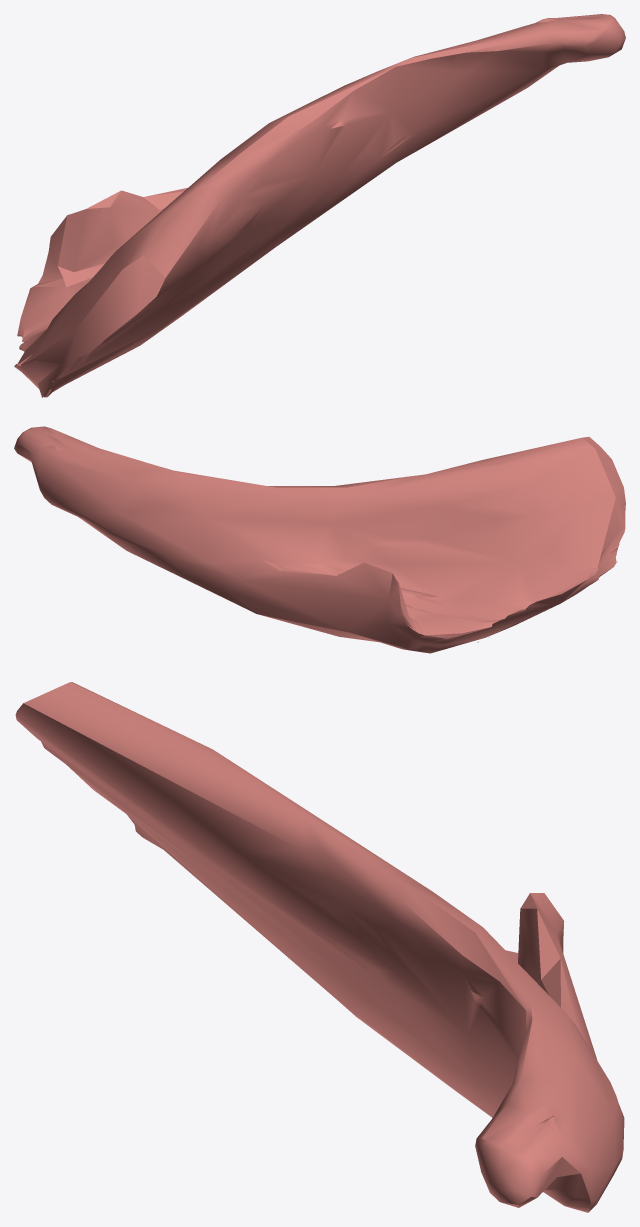
The model's file is fma22327_fj1425m.glb.
The picture shows the model from 3 angles, top to bottom: view 1: azimuth 30°, elevation 25°; view 2: azimuth 150°, elevation 25°; view 3: azimuth 270°, elevation 25°; orthographic projection. The views are drawn at different scales.
Parts seen in each view (by area): view 1: FMA22327_FJ1425M; view 2: FMA22327_FJ1425M; view 3: FMA22327_FJ1425M.
Boxes of the visible parts, <box> form: FMA22327_FJ1425M: <box>14,14,625,397</box>; FMA22327_FJ1425M: <box>14,426,625,653</box>; FMA22327_FJ1425M: <box>15,682,624,1212</box>.
Size of the model in its own units: 0.104 by 0.0292 by 0.054.
